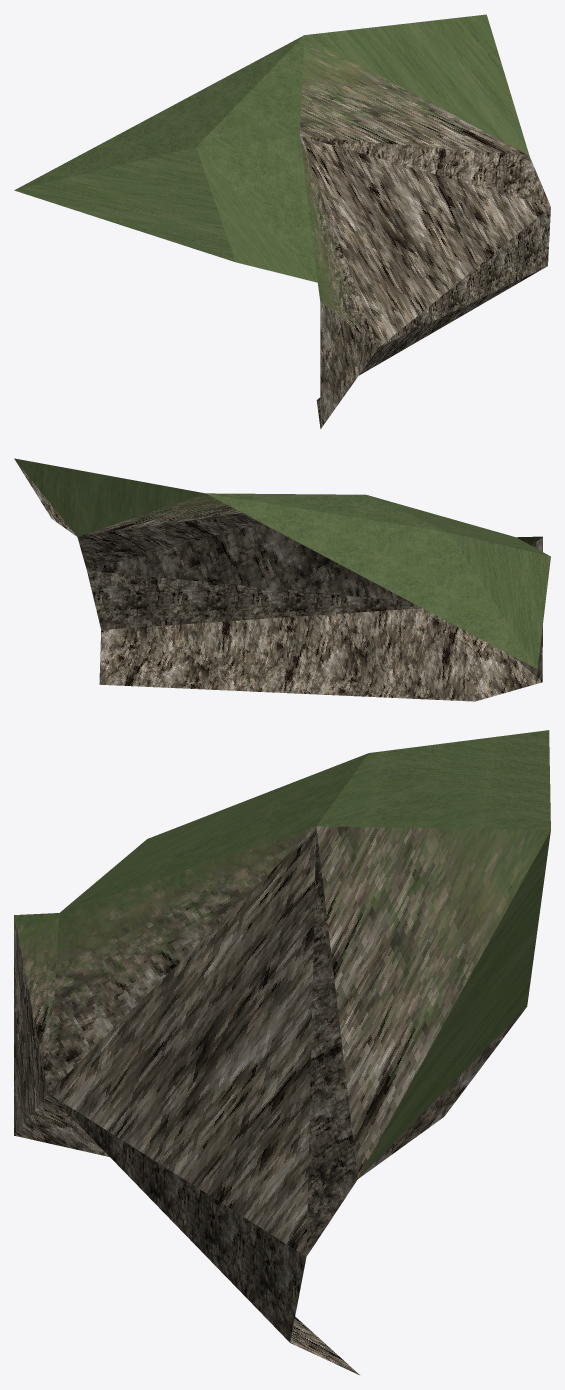
Rendered from LODa_carisle_mid_landmass_01_04.fbx.
The picture shows the model from 3 angles, top to bottom: view 1: azimuth 30°, elevation 25°; view 2: azimuth 150°, elevation 25°; view 3: azimuth 270°, elevation 25°; orthographic projection. The views are drawn at different scales.
Parts seen in each view (by area): view 1: LODa_carisle_mid_landmass_01_04; view 2: LODa_carisle_mid_landmass_01_04; view 3: LODa_carisle_mid_landmass_01_04.
Boxes of the visible parts, x1=… form: LODa_carisle_mid_landmass_01_04: x1=14, y1=14, x2=550, y2=428; LODa_carisle_mid_landmass_01_04: x1=14, y1=458, x2=550, y2=701; LODa_carisle_mid_landmass_01_04: x1=14, y1=730, x2=550, y2=1375.
Size of the model in its own units: 41.54 by 24.07 by 20.98.
